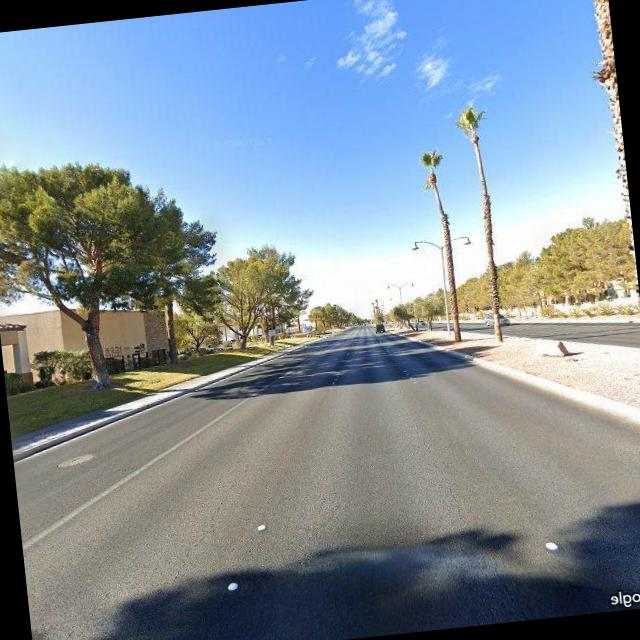pothole: (416, 418, 476, 534)
